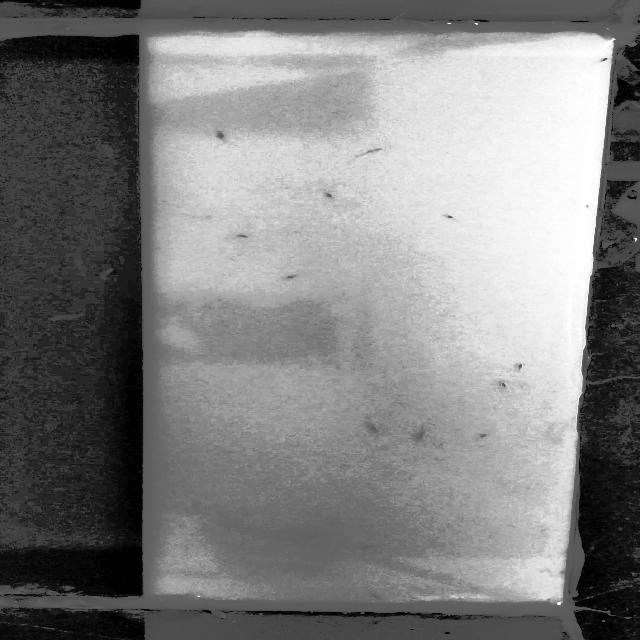shrimp: (343, 143, 389, 158), (584, 53, 618, 68), (212, 125, 237, 143), (354, 540, 384, 552), (411, 430, 434, 443), (364, 591, 388, 602), (279, 270, 301, 282), (303, 533, 328, 542), (364, 424, 384, 434), (232, 232, 256, 240), (319, 192, 339, 200), (509, 362, 526, 369), (479, 430, 488, 442), (445, 214, 458, 222), (497, 384, 512, 388)
